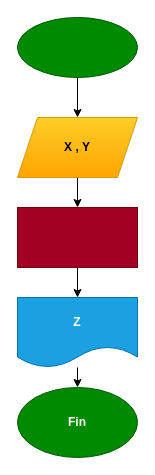
This 155x475 diagram has some shape labels left out. The centre of each missing label's shape, as x and y in pixels:
Incio: point (77, 47)
Z=X^Y: point (77, 237)
